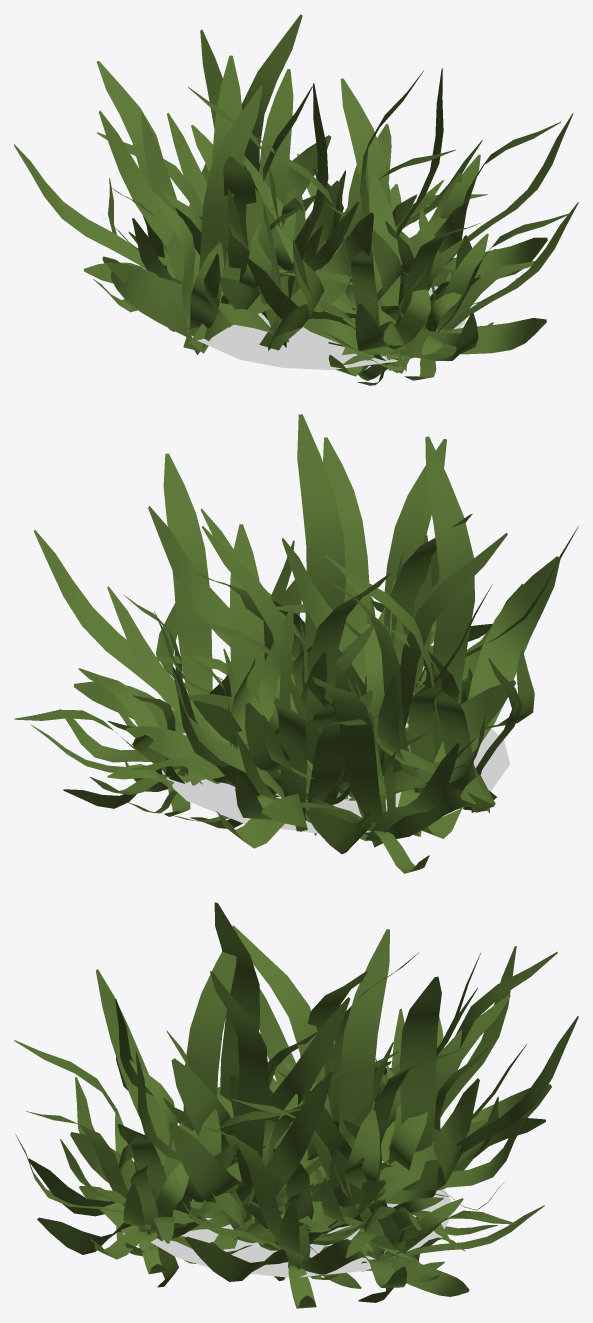
The model's file is Cesped2.fbx.
The picture shows the model from 3 angles, top to bottom: view 1: azimuth 30°, elevation 25°; view 2: azimuth 150°, elevation 25°; view 3: azimuth 270°, elevation 25°; orthographic projection. The views are drawn at different scales.
Parts seen in each view (by area): view 1: GHI1.003|HI1.001|Dupli|17, GHI1.003|HI1.001|Dupli|15, GHI1.003|HI1.001|Dupli|18, GHI1.003|HI1.001|Dupli|9, GHI1.003|HI1.001|Dupli|10, GHI1.003|HI1.001|Dupli|16, GHI1.003|HI1.001|Dupli|11, GHI1.003|HI1.001|Dupli|4, GHI1.003|HI1.001|Dupli|24, GHI1.003|HI1.001|Dupli|2, GHI1.003|HI1.001|Dupli|7, GHI1.003|HI1.001|Dupli|19 (+10 smaller); view 2: GHI1.003|HI1.001|Dupli|15, GHI1.003|HI1.001|Dupli|16, GHI1.003|HI1.001|Dupli|24, GHI1.003|HI1.001|Dupli|4, GHI1.003|HI1.001|Dupli|7, GHI1.003|HI1.001|Dupli|2, GHI1.003|HI1.001|Dupli|21, GHI1.003|HI1.001|Dupli|18, GHI1.003|HI1.001|Dupli|17, GHI1.003|HI1.001|Dupli|22, GHI1.003|HI1.001|Dupli|, GHI1.003|HI1.001|Dupli|3 (+9 smaller); view 3: GHI1.003|HI1.001|Dupli|7, GHI1.003|HI1.001|Dupli|4, GHI1.003|HI1.001|Dupli|22, GHI1.003|HI1.001|Dupli|15, GHI1.003|HI1.001|Dupli|10, GHI1.003|HI1.001|Dupli|24, GHI1.003|HI1.001|Dupli|9, GHI1.003|HI1.001|Dupli|, GHI1.003|HI1.001|Dupli|13, GHI1.003|HI1.001|Dupli|3, GHI1.003|HI1.001|Dupli|5, GHI1.003|HI1.001|Dupli|16 (+13 smaller).
Part boxes in pixels (left/top/right/bottom): GHI1.003|HI1.001|Dupli|17: left=102, top=86, right=322, bottom=354; GHI1.003|HI1.001|Dupli|15: left=204, top=83, right=373, bottom=350; GHI1.003|HI1.001|Dupli|18: left=98, top=55, right=339, bottom=327; GHI1.003|HI1.001|Dupli|9: left=398, top=202, right=578, bottom=358; GHI1.003|HI1.001|Dupli|10: left=245, top=137, right=414, bottom=376; GHI1.003|HI1.001|Dupli|16: left=14, top=61, right=209, bottom=312; GHI1.003|HI1.001|Dupli|11: left=275, top=172, right=466, bottom=373; GHI1.003|HI1.001|Dupli|4: left=191, top=14, right=345, bottom=239; GHI1.003|HI1.001|Dupli|24: left=392, top=113, right=573, bottom=286; GHI1.003|HI1.001|Dupli|2: left=132, top=156, right=359, bottom=309; GHI1.003|HI1.001|Dupli|7: left=294, top=68, right=467, bottom=310; GHI1.003|HI1.001|Dupli|19: left=162, top=69, right=347, bottom=270; GHI1.003|HI1.001|Dupli|15: left=282, top=436, right=560, bottom=751; GHI1.003|HI1.001|Dupli|16: left=232, top=677, right=494, bottom=873; GHI1.003|HI1.001|Dupli|24: left=33, top=453, right=301, bottom=733; GHI1.003|HI1.001|Dupli|4: left=168, top=526, right=374, bottom=848; GHI1.003|HI1.001|Dupli|7: left=148, top=414, right=439, bottom=711; GHI1.003|HI1.001|Dupli|2: left=348, top=533, right=515, bottom=800; GHI1.003|HI1.001|Dupli|21: left=107, top=524, right=298, bottom=783; GHI1.003|HI1.001|Dupli|18: left=300, top=564, right=484, bottom=836; GHI1.003|HI1.001|Dupli|17: left=320, top=555, right=522, bottom=838; GHI1.003|HI1.001|Dupli|22: left=231, top=573, right=492, bottom=773; GHI1.003|HI1.001|Dupli|: left=14, top=695, right=206, bottom=816; GHI1.003|HI1.001|Dupli|3: left=235, top=719, right=478, bottom=841; GHI1.003|HI1.001|Dupli|7: left=135, top=971, right=367, bottom=1250; GHI1.003|HI1.001|Dupli|4: left=303, top=976, right=578, bottom=1210; GHI1.003|HI1.001|Dupli|22: left=225, top=929, right=479, bottom=1200; GHI1.003|HI1.001|Dupli|15: left=115, top=902, right=350, bottom=1166; GHI1.003|HI1.001|Dupli|10: left=70, top=929, right=321, bottom=1216; GHI1.003|HI1.001|Dupli|24: left=167, top=1124, right=369, bottom=1308; GHI1.003|HI1.001|Dupli|9: left=15, top=1111, right=212, bottom=1274; GHI1.003|HI1.001|Dupli|: left=364, top=1198, right=544, bottom=1296; GHI1.003|HI1.001|Dupli|13: left=14, top=1040, right=195, bottom=1256; GHI1.003|HI1.001|Dupli|3: left=338, top=995, right=525, bottom=1188; GHI1.003|HI1.001|Dupli|5: left=211, top=1042, right=398, bottom=1243; GHI1.003|HI1.001|Dupli|16: left=375, top=946, right=557, bottom=1162.
Size of the model in its own units: 950 by 570 by 922.
